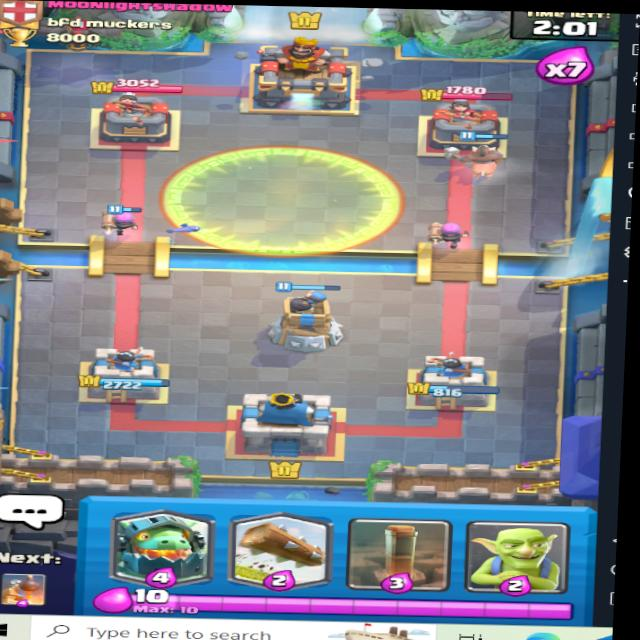goblin-curse: (160, 142, 404, 259)
lava-hound: (49, 15, 114, 57)
